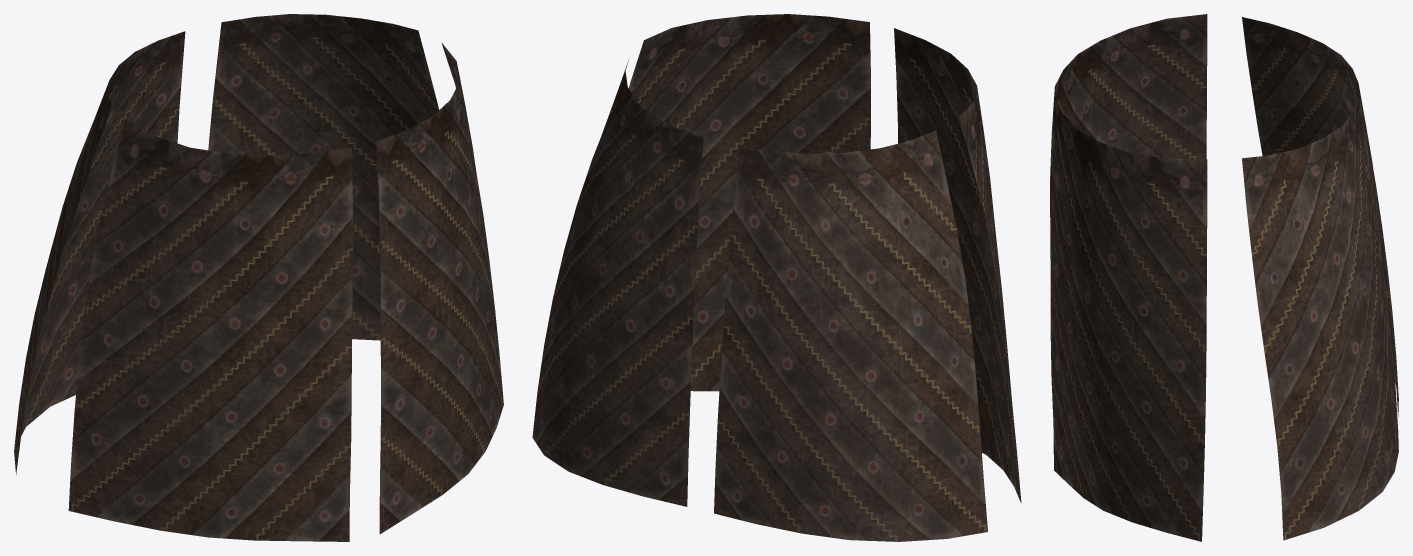
File: clo_sk_dwarf_iron_chest_a.fbx
3 views of the same model, side by side, from view 1: azimuth 30°, elevation 25°; view 2: azimuth 150°, elevation 25°; view 3: azimuth 270°, elevation 25° (orthographic). The views are drawn at different scales.
Parts seen in each view (by area): view 1: clo_sk_dwarf_iron_chest_a; view 2: clo_sk_dwarf_iron_chest_a; view 3: clo_sk_dwarf_iron_chest_a.
Boxes of the visible parts, box(x1,y1,x2,y2) form: clo_sk_dwarf_iron_chest_a: box(14, 14, 503, 541); clo_sk_dwarf_iron_chest_a: box(532, 14, 1021, 541); clo_sk_dwarf_iron_chest_a: box(1050, 14, 1398, 541).
Bounding box in the file's own units: 0.5417 × 0.3811 × 0.4542.
1 material, 1 textured.
